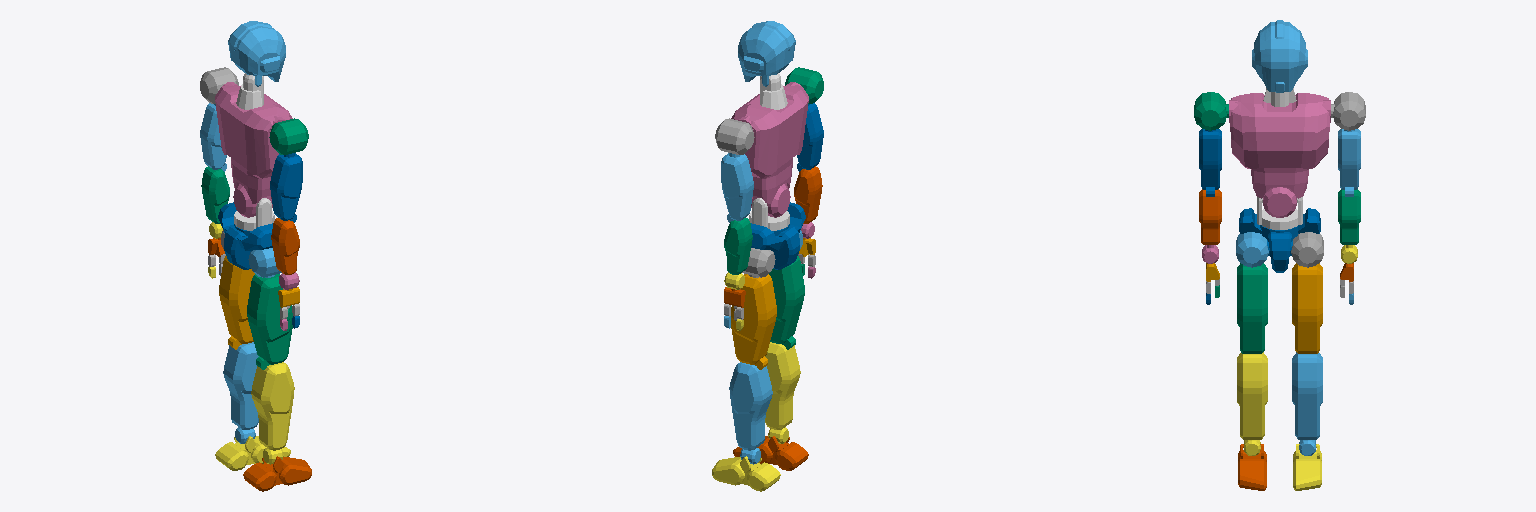
--- Render facts (derived) ---
Views: 3 orthographic renders of the robot side by side, from view 1: azimuth 30°, elevation 25°; view 2: azimuth 150°, elevation 25°; view 3: azimuth 270°, elevation 25°.
Model JVRC-1 with 55 links and 54 joints (44 revolute, 10 fixed), rooted at PELVIS_S, posed every joint at zero.
Links seen in each view (by area): view 1: WAIST_R_S, R_KNEE_S, R_HIP_Y_S, NECK_P_S, L_KNEE_S, L_HIP_Y_S, R_SHOULDER_Y_S, PELVIS_S, R_ANKLE_P_S, R_ELBOW_P_S, L_ANKLE_P_S, L_SHOULDER_Y_S (+6 smaller); view 2: WAIST_R_S, L_KNEE_S, L_HIP_Y_S, NECK_P_S, R_KNEE_S, R_HIP_Y_S, L_SHOULDER_Y_S, PELVIS_S, L_ANKLE_P_S, L_ELBOW_P_S, R_ANKLE_P_S, R_SHOULDER_Y_S (+6 smaller); view 3: WAIST_R_S, NECK_P_S, R_KNEE_S, L_KNEE_S, R_HIP_Y_S, L_HIP_Y_S, PELVIS_S, R_SHOULDER_Y_S, L_SHOULDER_Y_S, R_ELBOW_P_S, L_ELBOW_P_S, R_ANKLE_P_S (+6 smaller).
Link boxes in pixels (x1,y1,x2,y2): WAIST_R_S: (215, 82, 292, 217); R_KNEE_S: (251, 362, 294, 464); R_HIP_Y_S: (247, 274, 292, 369); NECK_P_S: (228, 21, 285, 86); L_KNEE_S: (223, 342, 258, 443); L_HIP_Y_S: (219, 256, 254, 349); R_SHOULDER_Y_S: (270, 153, 302, 222); PELVIS_S: (218, 202, 272, 269); R_ANKLE_P_S: (243, 456, 311, 491); R_ELBOW_P_S: (271, 218, 299, 274); L_ANKLE_P_S: (215, 436, 290, 470); L_SHOULDER_Y_S: (200, 103, 226, 171); WAIST_R_S: (731, 82, 808, 217); L_KNEE_S: (729, 362, 772, 464); L_HIP_Y_S: (731, 274, 776, 369); NECK_P_S: (738, 21, 795, 86); R_KNEE_S: (765, 342, 800, 443); R_HIP_Y_S: (769, 256, 804, 349); L_SHOULDER_Y_S: (721, 153, 753, 222); PELVIS_S: (751, 202, 805, 269); L_ANKLE_P_S: (712, 456, 780, 491); L_ELBOW_P_S: (724, 218, 752, 274); R_ANKLE_P_S: (733, 436, 808, 470); R_SHOULDER_Y_S: (797, 103, 823, 171); WAIST_R_S: (1229, 93, 1330, 217); NECK_P_S: (1252, 20, 1307, 92); R_KNEE_S: (1237, 352, 1267, 455); L_KNEE_S: (1292, 352, 1322, 455); R_HIP_Y_S: (1237, 263, 1267, 353); L_HIP_Y_S: (1292, 263, 1322, 353); PELVIS_S: (1239, 208, 1320, 272); R_SHOULDER_Y_S: (1199, 129, 1221, 196); L_SHOULDER_Y_S: (1338, 129, 1360, 196); R_ELBOW_P_S: (1199, 189, 1221, 244); L_ELBOW_P_S: (1338, 189, 1360, 244); R_ANKLE_P_S: (1238, 444, 1266, 490).
Size in the robot's own frame: 0.2846 by 0.595 by 1.71 metres.
39 mesh visuals loaded from 39 distinct referenced files (39 Collada DAE).

robot.urdf — JVRC-1:
<robot name="JVRC-1">
  <link name="R_HIP_P_S">
    <inertial>
      <mass value="1.0" />
      <origin xyz="0.0 0.0 0.0" rpy="0 -0 0" />
      <inertia ixx="0.00196" ixy="0.0" ixz="0.0" iyy="0.00196" iyz="0.0" izz="0.00196" />
    </inertial>
  </link>
  <link name="R_HIP_R_S">
    <inertial>
      <mass value="1.0" />
      <origin xyz="0.0 0.0 0.0" rpy="0 -0 0" />
      <inertia ixx="0.00196" ixy="0.0" ixz="0.0" iyy="0.00196" iyz="0.0" izz="0.00196" />
    </inertial>
    <visual>
      <origin xyz="0.0 0.0 0.0" rpy="-0.0 -0.0 1.5708" />
      <geometry>
        <mesh filename="package://jvrc_rviz/meshes/JVRC-1/JVRC-1-shape-4.dae" scale="0.01 0.01 0.01" />
      </geometry>
    </visual>
    <collision>
      <origin xyz="0.0 0.0 0.0" rpy="-0.0 -0.0 1.5708" />
      <geometry>
        <mesh filename="package://jvrc_rviz/meshes/JVRC-1/JVRC-1-shape-4.dae" scale="0.01 0.01 0.01" />
      </geometry>
    </collision>
  </link>
  <link name="R_HIP_Y_S">
    <inertial>
      <mass value="3.0" />
      <origin xyz="0.01 0.0 -0.22" rpy="0 -0 0" />
      <inertia ixx="0.031925" ixy="0.0" ixz="0.0" iyy="0.034525" iyz="0.0" izz="0.00865" />
    </inertial>
    <visual>
      <origin xyz="0.0 0.0 0.0" rpy="-0.0 -0.0 1.5708" />
      <geometry>
        <mesh filename="package://jvrc_rviz/meshes/JVRC-1/JVRC-1-shape-3.dae" scale="0.01 0.01 0.01" />
      </geometry>
    </visual>
    <collision>
      <origin xyz="0.0 0.0 0.0" rpy="-0.0 -0.0 1.5708" />
      <geometry>
        <mesh filename="package://jvrc_rviz/meshes/JVRC-1/JVRC-1-shape-3.dae" scale="0.01 0.01 0.01" />
      </geometry>
    </collision>
  </link>
  <link name="R_KNEE_S">
    <inertial>
      <mass value="3.0" />
      <origin xyz="0.04 0.0 -0.16" rpy="0 -0 0" />
      <inertia ixx="0.031925" ixy="0.0" ixz="0.0" iyy="0.034525" iyz="0.0" izz="0.00865" />
    </inertial>
    <visual>
      <origin xyz="0.0 0.0 0.0" rpy="-0.0 -0.0 1.5708" />
      <geometry>
        <mesh filename="package://jvrc_rviz/meshes/JVRC-1/JVRC-1-shape-1.dae" scale="0.01 0.01 0.01" />
      </geometry>
    </visual>
    <collision>
      <origin xyz="0.0 0.0 0.0" rpy="-0.0 -0.0 1.5708" />
      <geometry>
        <mesh filename="package://jvrc_rviz/meshes/JVRC-1/JVRC-1-shape-1.dae" scale="0.01 0.01 0.01" />
      </geometry>
    </collision>
    <visual>
      <origin xyz="0.04 0.0 -0.357" rpy="-0.0 -0.0 1.5708" />
      <geometry>
        <mesh filename="package://jvrc_rviz/meshes/JVRC-1/JVRC-1-shape-2.dae" scale="0.01 0.01 0.01" />
      </geometry>
    </visual>
    <collision>
      <origin xyz="0.04 0.0 -0.357" rpy="-0.0 -0.0 1.5708" />
      <geometry>
        <mesh filename="package://jvrc_rviz/meshes/JVRC-1/JVRC-1-shape-2.dae" scale="0.01 0.01 0.01" />
      </geometry>
    </collision>
  </link>
  <link name="R_ANKLE_R_S">
    <inertial>
      <mass value="1.0" />
      <origin xyz="0.0 0.0 0.0" rpy="0 -0 0" />
      <inertia ixx="0.00064" ixy="0.0" ixz="0.0" iyy="0.00064" iyz="0.0" izz="0.00064" />
    </inertial>
  </link>
  <link name="R_ANKLE_P_S">
    <inertial>
      <mass value="1.5" />
      <origin xyz="0.03 0.0 -0.07" rpy="0 -0 0" />
      <inertia ixx="0.00141666666667" ixy="0.0" ixz="0.0" iyy="0.00561666666667" iyz="0.0" izz="0.00621666666667" />
    </inertial>
    <visual>
      <origin xyz="0.0 0.0 0.0" rpy="-0.0 -0.0 1.5708" />
      <geometry>
        <mesh filename="package://jvrc_rviz/meshes/JVRC-1/JVRC-1-shape-0.dae" scale="0.01 0.01 0.01" />
      </geometry>
    </visual>
    <collision>
      <origin xyz="0.0 0.0 0.0" rpy="-0.0 -0.0 1.5708" />
      <geometry>
        <mesh filename="package://jvrc_rviz/meshes/JVRC-1/JVRC-1-shape-0.dae" scale="0.01 0.01 0.01" />
      </geometry>
    </collision>
  </link>
  <link name="L_HIP_P_S">
    <inertial>
      <mass value="1.0" />
      <origin xyz="0.0 0.0 0.0" rpy="0 -0 0" />
      <inertia ixx="0.00196" ixy="0.0" ixz="0.0" iyy="0.00196" iyz="0.0" izz="0.00196" />
    </inertial>
  </link>
  <link name="L_HIP_R_S">
    <inertial>
      <mass value="1.0" />
      <origin xyz="0.0 0.0 0.0" rpy="0 -0 0" />
      <inertia ixx="0.00196" ixy="0.0" ixz="0.0" iyy="0.00196" iyz="0.0" izz="0.00196" />
    </inertial>
    <visual>
      <origin xyz="0.0 0.0 0.0" rpy="-0.0 -0.0 1.5708" />
      <geometry>
        <mesh filename="package://jvrc_rviz/meshes/JVRC-1/JVRC-1-shape-9.dae" scale="0.01 0.01 0.01" />
      </geometry>
    </visual>
    <collision>
      <origin xyz="0.0 0.0 0.0" rpy="-0.0 -0.0 1.5708" />
      <geometry>
        <mesh filename="package://jvrc_rviz/meshes/JVRC-1/JVRC-1-shape-9.dae" scale="0.01 0.01 0.01" />
      </geometry>
    </collision>
  </link>
  <link name="L_HIP_Y_S">
    <inertial>
      <mass value="3.0" />
      <origin xyz="0.01 0.0 -0.22" rpy="0 -0 0" />
      <inertia ixx="0.031925" ixy="0.0" ixz="0.0" iyy="0.034525" iyz="0.0" izz="0.00865" />
    </inertial>
    <visual>
      <origin xyz="0.0 0.0 0.0" rpy="-0.0 -0.0 1.5708" />
      <geometry>
        <mesh filename="package://jvrc_rviz/meshes/JVRC-1/JVRC-1-shape-8.dae" scale="0.01 0.01 0.01" />
      </geometry>
    </visual>
    <collision>
      <origin xyz="0.0 0.0 0.0" rpy="-0.0 -0.0 1.5708" />
      <geometry>
        <mesh filename="package://jvrc_rviz/meshes/JVRC-1/JVRC-1-shape-8.dae" scale="0.01 0.01 0.01" />
      </geometry>
    </collision>
  </link>
  <link name="L_KNEE_S">
    <inertial>
      <mass value="3.0" />
      <origin xyz="0.04 0.0 -0.16" rpy="0 -0 0" />
      <inertia ixx="0.031925" ixy="0.0" ixz="0.0" iyy="0.034525" iyz="0.0" izz="0.00865" />
    </inertial>
    <visual>
      <origin xyz="0.0 0.0 0.0" rpy="-0.0 -0.0 1.5708" />
      <geometry>
        <mesh filename="package://jvrc_rviz/meshes/JVRC-1/JVRC-1-shape-6.dae" scale="0.01 0.01 0.01" />
      </geometry>
    </visual>
    <collision>
      <origin xyz="0.0 0.0 0.0" rpy="-0.0 -0.0 1.5708" />
      <geometry>
        <mesh filename="package://jvrc_rviz/meshes/JVRC-1/JVRC-1-shape-6.dae" scale="0.01 0.01 0.01" />
      </geometry>
    </collision>
    <visual>
      <origin xyz="0.04 0.0 -0.357" rpy="-0.0 -0.0 1.5708" />
      <geometry>
        <mesh filename="package://jvrc_rviz/meshes/JVRC-1/JVRC-1-shape-7.dae" scale="0.01 0.01 0.01" />
      </geometry>
    </visual>
    <collision>
      <origin xyz="0.04 0.0 -0.357" rpy="-0.0 -0.0 1.5708" />
      <geometry>
        <mesh filename="package://jvrc_rviz/meshes/JVRC-1/JVRC-1-shape-7.dae" scale="0.01 0.01 0.01" />
      </geometry>
    </collision>
  </link>
  <link name="L_ANKLE_R_S">
    <inertial>
      <mass value="1.0" />
      <origin xyz="0.0 0.0 0.0" rpy="0 -0 0" />
      <inertia ixx="0.00064" ixy="0.0" ixz="0.0" iyy="0.00064" iyz="0.0" izz="0.00064" />
    </inertial>
  </link>
  <link name="L_ANKLE_P_S">
    <inertial>
      <mass value="1.5" />
      <origin xyz="0.03 0.0 -0.07" rpy="0 -0 0" />
      <inertia ixx="0.00141666666667" ixy="0.0" ixz="0.0" iyy="0.00561666666667" iyz="0.0" izz="0.00621666666667" />
    </inertial>
    <visual>
      <origin xyz="0.0 0.0 0.0" rpy="-0.0 -0.0 1.5708" />
      <geometry>
        <mesh filename="package://jvrc_rviz/meshes/JVRC-1/JVRC-1-shape-5.dae" scale="0.01 0.01 0.01" />
      </geometry>
    </visual>
    <collision>
      <origin xyz="0.0 0.0 0.0" rpy="-0.0 -0.0 1.5708" />
      <geometry>
        <mesh filename="package://jvrc_rviz/meshes/JVRC-1/JVRC-1-shape-5.dae" scale="0.01 0.01 0.01" />
      </geometry>
    </collision>
  </link>
  <link name="WAIST_Y_S">
    <inertial>
      <mass value="1.0" />
      <origin xyz="0.0 0.0 -0.07" rpy="0 -0 0" />
      <inertia ixx="0.00173333333333" ixy="0.0" ixz="0.0" iyy="0.00173333333333" iyz="0.0" izz="0.0032" />
    </inertial>
    <visual>
      <origin xyz="0.0 0.0 0.0" rpy="-0.0 -0.0 1.5708" />
      <geometry>
        <mesh filename="package://jvrc_rviz/meshes/JVRC-1/JVRC-1-shape-37.dae" scale="0.01 0.01 0.01" />
      </geometry>
    </visual>
    <collision>
      <origin xyz="0.0 0.0 0.0" rpy="-0.0 -0.0 1.5708" />
      <geometry>
        <mesh filename="package://jvrc_rviz/meshes/JVRC-1/JVRC-1-shape-37.dae" scale="0.01 0.01 0.01" />
      </geometry>
    </collision>
  </link>
  <link name="WAIST_P_S">
    <inertial>
      <mass value="1.0" />
      <origin xyz="0.0 0.0 0.0" rpy="0 -0 0" />
      <inertia ixx="0.00245" ixy="0.0" ixz="0.0" iyy="0.002425" iyz="0.0" izz="0.002425" />
    </inertial>
  </link>
  <link name="WAIST_R_S">
    <inertial>
      <mass value="10.0" />
      <origin xyz="0.02 0.0 0.24" rpy="0 -0 0" />
      <inertia ixx="0.157083333333" ixy="0.0" ixz="0.0" iyy="0.101083333333" iyz="0.0" izz="0.136666666667" />
    </inertial>
    <visual>
      <origin xyz="0.0 0.0 0.0" rpy="-0.0 -0.0 1.5708" />
      <geometry>
        <mesh filename="package://jvrc_rviz/meshes/JVRC-1/JVRC-1-shape-35.dae" scale="0.01 0.01 0.01" />
      </geometry>
    </visual>
    <collision>
      <origin xyz="0.0 0.0 0.0" rpy="-0.0 -0.0 1.5708" />
      <geometry>
        <mesh filename="package://jvrc_rviz/meshes/JVRC-1/JVRC-1-shape-35.dae" scale="0.01 0.01 0.01" />
      </geometry>
    </collision>
    <visual>
      <origin xyz="0.0 0.0 0.0" rpy="-0.0 -0.0 1.5708" />
      <geometry>
        <mesh filename="package://jvrc_rviz/meshes/JVRC-1/JVRC-1-shape-36.dae" scale="0.01 0.01 0.01" />
      </geometry>
    </visual>
    <collision>
      <origin xyz="0.0 0.0 0.0" rpy="-0.0 -0.0 1.5708" />
      <geometry>
        <mesh filename="package://jvrc_rviz/meshes/JVRC-1/JVRC-1-shape-36.dae" scale="0.01 0.01 0.01" />
      </geometry>
    </collision>
  </link>
  <link name="NECK_Y_S">
    <inertial>
      <mass value="0.5" />
      <origin xyz="0.0 0.0 -0.05" rpy="0 -0 0" />
      <inertia ixx="0.000729166666667" ixy="0.0" ixz="0.0" iyy="0.000729166666667" iyz="0.0" izz="0.000625" />
    </inertial>
    <visual>
      <origin xyz="0.0 0.0 0.0" rpy="-0.0 -0.0 1.5708" />
      <geometry>
        <mesh filename="package://jvrc_rviz/meshes/JVRC-1/JVRC-1-shape-12.dae" scale="0.01 0.01 0.01" />
      </geometry>
    </visual>
    <collision>
      <origin xyz="0.0 0.0 0.0" rpy="-0.0 -0.0 1.5708" />
      <geometry>
        <mesh filename="package://jvrc_rviz/meshes/JVRC-1/JVRC-1-shape-12.dae" scale="0.01 0.01 0.01" />
      </geometry>
    </collision>
  </link>
  <link name="NECK_R_S">
    <inertial>
      <mass value="0.5" />
      <origin xyz="0.0 0.0 0.0" rpy="0 -0 0" />
      <inertia ixx="0.0005" ixy="0.0" ixz="0.0" iyy="0.0005" iyz="0.0" izz="0.0005" />
    </inertial>
  </link>
  <link name="NECK_P_S">
    <inertial>
      <mass value="2.0" />
      <origin xyz="0.01 0.0 0.11" rpy="0 -0 0" />
      <inertia ixx="0.00968" ixy="0.0" ixz="0.0" iyy="0.00968" iyz="0.0" izz="0.00968" />
    </inertial>
    <visual>
      <origin xyz="0.0 0.0 0.0" rpy="-0.0 -0.0 1.5708" />
      <geometry>
        <mesh filename="package://jvrc_rviz/meshes/JVRC-1/JVRC-1-shape-10.dae" scale="0.01 0.01 0.01" />
      </geometry>
    </visual>
    <collision>
      <origin xyz="0.0 0.0 0.0" rpy="-0.0 -0.0 1.5708" />
      <geometry>
        <mesh filename="package://jvrc_rviz/meshes/JVRC-1/JVRC-1-shape-10.dae" scale="0.01 0.01 0.01" />
      </geometry>
    </collision>
    <visual>
      <origin xyz="0.0 0.0 0.0" rpy="-0.0 -0.0 1.5708" />
      <geometry>
        <mesh filename="package://jvrc_rviz/meshes/JVRC-1/JVRC-1-shape-11.dae" scale="0.01 0.01 0.01" />
      </geometry>
    </visual>
    <collision>
      <origin xyz="0.0 0.0 0.0" rpy="-0.0 -0.0 1.5708" />
      <geometry>
        <mesh filename="package://jvrc_rviz/meshes/JVRC-1/JVRC-1-shape-11.dae" scale="0.01 0.01 0.01" />
      </geometry>
    </collision>
  </link>
  <link name="R_SHOULDER_P_S">
    <inertial>
      <mass value="1.0" />
      <origin xyz="0.0 0.0 0.0" rpy="0 -0 0" />
      <inertia ixx="0.00196" ixy="0.0" ixz="0.0" iyy="0.00196" iyz="0.0" izz="0.00196" />
    </inertial>
    <visual>
      <origin xyz="0.0 0.0 0.0" rpy="-0.0 -0.0 1.5708" />
      <geometry>
        <mesh filename="package://jvrc_rviz/meshes/JVRC-1/JVRC-1-shape-23.dae" scale="0.01 0.01 0.01" />
      </geometry>
    </visual>
    <collision>
      <origin xyz="0.0 0.0 0.0" rpy="-0.0 -0.0 1.5708" />
      <geometry>
        <mesh filename="package://jvrc_rviz/meshes/JVRC-1/JVRC-1-shape-23.dae" scale="0.01 0.01 0.01" />
      </geometry>
    </collision>
  </link>
  <link name="R_SHOULDER_R_S">
    <inertial>
      <mass value="1.0" />
      <origin xyz="0.0 0.0 0.0" rpy="0 -0 0" />
      <inertia ixx="0.00196" ixy="0.0" ixz="0.0" iyy="0.00196" iyz="0.0" izz="0.00196" />
    </inertial>
  </link>
  <link name="R_SHOULDER_Y_S">
    <inertial>
      <mass value="2.0" />
      <origin xyz="-0.01 0.0 -0.19" rpy="0 -0 0" />
      <inertia ixx="0.01365" ixy="0.0" ixz="0.0" iyy="0.0146" iyz="0.0" izz="0.00635" />
    </inertial>
    <visual>
      <origin xyz="0.0 0.0 0.0" rpy="-0.0 -0.0 1.5708" />
      <geometry>
        <mesh filename="package://jvrc_rviz/meshes/JVRC-1/JVRC-1-shape-22.dae" scale="0.01 0.01 0.01" />
      </geometry>
    </visual>
    <collision>
      <origin xyz="0.0 0.0 0.0" rpy="-0.0 -0.0 1.5708" />
      <geometry>
        <mesh filename="package://jvrc_rviz/meshes/JVRC-1/JVRC-1-shape-22.dae" scale="0.01 0.01 0.01" />
      </geometry>
    </collision>
  </link>
  <link name="R_ELBOW_P_S">
    <inertial>
      <mass value="1.0" />
      <origin xyz="-0.02 0.0 -0.1" rpy="0 -0 0" />
      <inertia ixx="0.010675" ixy="0.0" ixz="0.0" iyy="0.010675" iyz="0.0" izz="0.0027" />
    </inertial>
    <visual>
      <origin xyz="0.0 0.0 0.0" rpy="-0.0 -0.0 1.5708" />
      <geometry>
        <mesh filename="package://jvrc_rviz/meshes/JVRC-1/JVRC-1-shape-21.dae" scale="0.01 0.01 0.01" />
      </geometry>
    </visual>
    <collision>
      <origin xyz="0.0 0.0 0.0" rpy="-0.0 -0.0 1.5708" />
      <geometry>
        <mesh filename="package://jvrc_rviz/meshes/JVRC-1/JVRC-1-shape-21.dae" scale="0.01 0.01 0.01" />
      </geometry>
    </collision>
  </link>
  <link name="R_ELBOW_Y_S">
    <inertial>
      <mass value="1.0" />
      <origin xyz="0.0 0.0 0.0" rpy="0 -0 0" />
      <inertia ixx="0.00064" ixy="0.0" ixz="0.0" iyy="0.00064" iyz="0.0" izz="0.00064" />
    </inertial>
    <visual>
      <origin xyz="0.0 0.0 0.0" rpy="-0.0 -0.0 1.5708" />
      <geometry>
        <mesh filename="package://jvrc_rviz/meshes/JVRC-1/JVRC-1-shape-20.dae" scale="0.01 0.01 0.01" />
      </geometry>
    </visual>
    <collision>
      <origin xyz="0.0 0.0 0.0" rpy="-0.0 -0.0 1.5708" />
      <geometry>
        <mesh filename="package://jvrc_rviz/meshes/JVRC-1/JVRC-1-shape-20.dae" scale="0.01 0.01 0.01" />
      </geometry>
    </collision>
  </link>
  <link name="R_WRIST_R_S">
    <inertial>
      <mass value="0.5" />
      <origin xyz="0.0 0.0 0.0" rpy="0 -0 0" />
      <inertia ixx="0.00032" ixy="0.0" ixz="0.0" iyy="0.00032" iyz="0.0" izz="0.00032" />
    </inertial>
  </link>
  <link name="R_WRIST_Y_S">
    <inertial>
      <mass value="0.5" />
      <origin xyz="0.0 0.01 -0.06" rpy="0 -0 0" />
      <inertia ixx="0.0004625" ixy="0.0" ixz="0.0" iyy="0.0007625" iyz="0.0" izz="0.0004625" />
    </inertial>
    <visual>
      <origin xyz="0.0 0.0 0.0" rpy="-0.0 -0.0 1.5708" />
      <geometry>
        <mesh filename="package://jvrc_rviz/meshes/JVRC-1/JVRC-1-shape-19.dae" scale="0.01 0.01 0.01" />
      </geometry>
    </visual>
    <collision>
      <origin xyz="0.0 0.0 0.0" rpy="-0.0 -0.0 1.5708" />
      <geometry>
        <mesh filename="package://jvrc_rviz/meshes/JVRC-1/JVRC-1-shape-19.dae" scale="0.01 0.01 0.01" />
      </geometry>
    </collision>
  </link>
  <link name="R_UTHUMB_S">
    <inertial>
      <mass value="0.2" />
      <origin xyz="0.0 0.0 -0.015" rpy="0 -0 0" />
      <inertia ixx="6.16666666667e-05" ixy="0.0" ixz="0.0" iyy="6.16666666667e-05" iyz="0.0" izz="2.66666666667e-05" />
    </inertial>
    <visual>
      <origin xyz="0.0 0.0 0.0" rpy="-0.0 -0.0 1.5708" />
      <geometry>
        <mesh filename="package://jvrc_rviz/meshes/JVRC-1/JVRC-1-shape-14.dae" scale="0.01 0.01 0.01" />
      </geometry>
    </visual>
    <collision>
      <origin xyz="0.0 0.0 0.0" rpy="-0.0 -0.0 1.5708" />
      <geometry>
        <mesh filename="package://jvrc_rviz/meshes/JVRC-1/JVRC-1-shape-14.dae" scale="0.01 0.01 0.01" />
      </geometry>
    </collision>
  </link>
  <link name="R_LTHUMB_S">
    <inertial>
      <mass value="0.2" />
      <origin xyz="0.0 0.0 -0.015" rpy="0 -0 0" />
      <inertia ixx="6.16666666667e-05" ixy="0.0" ixz="0.0" iyy="6.16666666667e-05" iyz="0.0" izz="2.66666666667e-05" />
    </inertial>
    <visual>
      <origin xyz="0.0 0.0 0.0" rpy="-0.0 -0.0 1.5708" />
      <geometry>
        <mesh filename="package://jvrc_rviz/meshes/JVRC-1/JVRC-1-shape-13.dae" scale="0.01 0.01 0.01" />
      </geometry>
    </visual>
    <collision>
      <origin xyz="0.0 0.0 0.0" rpy="-0.0 -0.0 1.5708" />
      <geometry>
        <mesh filename="package://jvrc_rviz/meshes/JVRC-1/JVRC-1-shape-13.dae" scale="0.01 0.01 0.01" />
      </geometry>
    </collision>
  </link>
  <link name="R_UINDEX_S">
    <inertial>
      <mass value="0.2" />
      <origin xyz="0.0 0.0 -0.015" rpy="0 -0 0" />
      <inertia ixx="6.16666666667e-05" ixy="0.0" ixz="0.0" iyy="6.16666666667e-05" iyz="0.0" izz="2.66666666667e-05" />
    </inertial>
    <visual>
      <origin xyz="0.0 0.0 0.0" rpy="-0.0 -0.0 1.5708" />
      <geometry>
        <mesh filename="package://jvrc_rviz/meshes/JVRC-1/JVRC-1-shape-16.dae" scale="0.01 0.01 0.01" />
      </geometry>
    </visual>
    <collision>
      <origin xyz="0.0 0.0 0.0" rpy="-0.0 -0.0 1.5708" />
      <geometry>
        <mesh filename="package://jvrc_rviz/meshes/JVRC-1/JVRC-1-shape-16.dae" scale="0.01 0.01 0.01" />
      </geometry>
    </collision>
  </link>
  <link name="R_LINDEX_S">
    <inertial>
      <mass value="0.2" />
      <origin xyz="0.0 0.0 -0.015" rpy="0 -0 0" />
      <inertia ixx="6.16666666667e-05" ixy="0.0" ixz="0.0" iyy="6.16666666667e-05" iyz="0.0" izz="2.66666666667e-05" />
    </inertial>
    <visual>
      <origin xyz="0.0 0.0 0.0" rpy="-0.0 -0.0 1.5708" />
      <geometry>
        <mesh filename="package://jvrc_rviz/meshes/JVRC-1/JVRC-1-shape-15.dae" scale="0.01 0.01 0.01" />
      </geometry>
    </visual>
    <collision>
      <origin xyz="0.0 0.0 0.0" rpy="-0.0 -0.0 1.5708" />
      <geometry>
        <mesh filename="package://jvrc_rviz/meshes/JVRC-1/JVRC-1-shape-15.dae" scale="0.01 0.01 0.01" />
      </geometry>
    </collision>
  </link>
  <link name="R_ULITTLE_S">
    <inertial>
      <mass value="0.2" />
      <origin xyz="0.0 0.0 -0.015" rpy="0 -0 0" />
      <inertia ixx="6.16666666667e-05" ixy="0.0" ixz="0.0" iyy="6.16666666667e-05" iyz="0.0" izz="2.66666666667e-05" />
    </inertial>
    <visual>
      <origin xyz="0.0 0.0 0.0" rpy="-0.0 -0.0 1.5708" />
      <geometry>
        <mesh filename="package://jvrc_rviz/meshes/JVRC-1/JVRC-1-shape-18.dae" scale="0.01 0.01 0.01" />
      </geometry>
    </visual>
    <collision>
      <origin xyz="0.0 0.0 0.0" rpy="-0.0 -0.0 1.5708" />
      <geometry>
        <mesh filename="package://jvrc_rviz/meshes/JVRC-1/JVRC-1-shape-18.dae" scale="0.01 0.01 0.01" />
      </geometry>
    </collision>
  </link>
  <link name="R_LLITTLE_S">
    <inertial>
      <mass value="0.2" />
      <origin xyz="0.0 0.0 -0.015" rpy="0 -0 0" />
      <inertia ixx="6.16666666667e-05" ixy="0.0" ixz="0.0" iyy="6.16666666667e-05" iyz="0.0" izz="2.66666666667e-05" />
    </inertial>
    <visual>
      <origin xyz="0.0 0.0 0.0" rpy="-0.0 -0.0 1.5708" />
      <geometry>
        <mesh filename="package://jvrc_rviz/meshes/JVRC-1/JVRC-1-shape-17.dae" scale="0.01 0.01 0.01" />
      </geometry>
    </visual>
    <collision>
      <origin xyz="0.0 0.0 0.0" rpy="-0.0 -0.0 1.5708" />
      <geometry>
        <mesh filename="package://jvrc_rviz/meshes/JVRC-1/JVRC-1-shape-17.dae" scale="0.01 0.01 0.01" />
      </geometry>
    </collision>
  </link>
  <link name="L_SHOULDER_P_S">
    <inertial>
      <mass value="1.0" />
      <origin xyz="0.0 0.0 0.0" rpy="0 -0 0" />
      <inertia ixx="0.00196" ixy="0.0" ixz="0.0" iyy="0.00196" iyz="0.0" izz="0.00196" />
    </inertial>
    <visual>
      <origin xyz="0.0 0.0 0.0" rpy="-0.0 -0.0 1.5708" />
      <geometry>
        <mesh filename="package://jvrc_rviz/meshes/JVRC-1/JVRC-1-shape-34.dae" scale="0.01 0.01 0.01" />
      </geometry>
    </visual>
    <collision>
      <origin xyz="0.0 0.0 0.0" rpy="-0.0 -0.0 1.5708" />
      <geometry>
        <mesh filename="package://jvrc_rviz/meshes/JVRC-1/JVRC-1-shape-34.dae" scale="0.01 0.01 0.01" />
      </geometry>
    </collision>
  </link>
  <link name="L_SHOULDER_R_S">
    <inertial>
      <mass value="1.0" />
      <origin xyz="0.0 0.0 0.0" rpy="0 -0 0" />
      <inertia ixx="0.00196" ixy="0.0" ixz="0.0" iyy="0.00196" iyz="0.0" izz="0.00196" />
    </inertial>
  </link>
  <link name="L_SHOULDER_Y_S">
    <inertial>
      <mass value="2.0" />
      <origin xyz="-0.01 0.0 -0.19" rpy="0 -0 0" />
      <inertia ixx="0.01365" ixy="0.0" ixz="0.0" iyy="0.0146" iyz="0.0" izz="0.00635" />
    </inertial>
    <visual>
      <origin xyz="0.0 0.0 0.0" rpy="-0.0 -0.0 1.5708" />
      <geometry>
        <mesh filename="package://jvrc_rviz/meshes/JVRC-1/JVRC-1-shape-33.dae" scale="0.01 0.01 0.01" />
      </geometry>
    </visual>
    <collision>
      <origin xyz="0.0 0.0 0.0" rpy="-0.0 -0.0 1.5708" />
      <geometry>
        <mesh filename="package://jvrc_rviz/meshes/JVRC-1/JVRC-1-shape-33.dae" scale="0.01 0.01 0.01" />
      </geometry>
    </collision>
  </link>
  <link name="L_ELBOW_P_S">
    <inertial>
      <mass value="1.0" />
      <origin xyz="-0.02 0.0 -0.1" rpy="0 -0 0" />
      <inertia ixx="0.010675" ixy="0.0" ixz="0.0" iyy="0.010675" iyz="0.0" izz="0.0027" />
    </inertial>
    <visual>
      <origin xyz="0.0 0.0 0.0" rpy="-0.0 -0.0 1.5708" />
      <geometry>
        <mesh filename="package://jvrc_rviz/meshes/JVRC-1/JVRC-1-shape-32.dae" scale="0.01 0.01 0.01" />
      </geometry>
    </visual>
    <collision>
      <origin xyz="0.0 0.0 0.0" rpy="-0.0 -0.0 1.5708" />
      <geometry>
        <mesh filename="package://jvrc_rviz/meshes/JVRC-1/JVRC-1-shape-32.dae" scale="0.01 0.01 0.01" />
      </geometry>
    </collision>
  </link>
  <link name="L_ELBOW_Y_S">
    <inertial>
      <mass value="1.0" />
      <origin xyz="0.0 0.0 0.0" rpy="0 -0 0" />
      <inertia ixx="0.00064" ixy="0.0" ixz="0.0" iyy="0.00064" iyz="0.0" izz="0.00064" />
    </inertial>
    <visual>
      <origin xyz="0.0 0.0 0.0" rpy="-0.0 -0.0 1.5708" />
      <geometry>
        <mesh filename="package://jvrc_rviz/meshes/JVRC-1/JVRC-1-shape-31.dae" scale="0.01 0.01 0.01" />
      </geometry>
    </visual>
    <collision>
      <origin xyz="0.0 0.0 0.0" rpy="-0.0 -0.0 1.5708" />
      <geometry>
        <mesh filename="package://jvrc_rviz/meshes/JVRC-1/JVRC-1-shape-31.dae" scale="0.01 0.01 0.01" />
      </geometry>
    </collision>
  </link>
  <link name="L_WRIST_R_S">
    <inertial>
      <mass value="0.5" />
      <origin xyz="0.0 0.0 0.0" rpy="0 -0 0" />
      <inertia ixx="0.00032" ixy="0.0" ixz="0.0" iyy="0.00032" iyz="0.0" izz="0.00032" />
    </inertial>
  </link>
  <link name="L_WRIST_Y_S">
    <inertial>
      <mass value="0.5" />
      <origin xyz="0.0 -0.01 -0.06" rpy="0 -0 0" />
      <inertia ixx="0.0004625" ixy="0.0" ixz="0.0" iyy="0.0007625" iyz="0.0" izz="0.0004625" />
    </inertial>
    <visual>
      <origin xyz="0.0 0.0 0.0" rpy="-0.0 -0.0 1.5708" />
      <geometry>
        <mesh filename="package://jvrc_rviz/meshes/JVRC-1/JVRC-1-shape-30.dae" scale="0.01 0.01 0.01" />
      </geometry>
    </visual>
    <collision>
      <origin xyz="0.0 0.0 0.0" rpy="-0.0 -0.0 1.5708" />
      <geometry>
        <mesh filename="package://jvrc_rviz/meshes/JVRC-1/JVRC-1-shape-30.dae" scale="0.01 0.01 0.01" />
      </geometry>
    </collision>
  </link>
  <link name="L_UTHUMB_S">
    <inertial>
      <mass value="0.2" />
      <origin xyz="0.0 0.0 -0.015" rpy="0 -0 0" />
      <inertia ixx="6.16666666667e-05" ixy="0.0" ixz="0.0" iyy="6.16666666667e-05" iyz="0.0" izz="2.66666666667e-05" />
    </inertial>
    <visual>
      <origin xyz="0.0 0.0 0.0" rpy="-0.0 -0.0 1.5708" />
      <geometry>
        <mesh filename="package://jvrc_rviz/meshes/JVRC-1/JVRC-1-shape-25.dae" scale="0.01 0.01 0.01" />
      </geometry>
    </visual>
    <collision>
      <origin xyz="0.0 0.0 0.0" rpy="-0.0 -0.0 1.5708" />
      <geometry>
        <mesh filename="package://jvrc_rviz/meshes/JVRC-1/JVRC-1-shape-25.dae" scale="0.01 0.01 0.01" />
      </geometry>
    </collision>
  </link>
  <link name="L_LTHUMB_S">
    <inertial>
      <mass value="0.2" />
      <origin xyz="0.0 0.0 -0.015" rpy="0 -0 0" />
      <inertia ixx="6.16666666667e-05" ixy="0.0" ixz="0.0" iyy="6.16666666667e-05" iyz="0.0" izz="2.66666666667e-05" />
    </inertial>
    <visual>
      <origin xyz="0.0 0.0 0.0" rpy="-0.0 -0.0 1.5708" />
      <geometry>
        <mesh filename="package://jvrc_rviz/meshes/JVRC-1/JVRC-1-shape-24.dae" scale="0.01 0.01 0.01" />
      </geometry>
    </visual>
    <collision>
      <origin xyz="0.0 0.0 0.0" rpy="-0.0 -0.0 1.5708" />
      <geometry>
        <mesh filename="package://jvrc_rviz/meshes/JVRC-1/JVRC-1-shape-24.dae" scale="0.01 0.01 0.01" />
      </geometry>
    </collision>
  </link>
  <link name="L_UINDEX_S">
    <inertial>
      <mass value="0.2" />
      <origin xyz="0.0 0.0 -0.015" rpy="0 -0 0" />
      <inertia ixx="6.16666666667e-05" ixy="0.0" ixz="0.0" iyy="6.16666666667e-05" iyz="0.0" izz="2.66666666667e-05" />
    </inertial>
    <visual>
      <origin xyz="0.0 0.0 0.0" rpy="-0.0 -0.0 1.5708" />
      <geometry>
        <mesh filename="package://jvrc_rviz/meshes/JVRC-1/JVRC-1-shape-27.dae" scale="0.01 0.01 0.01" />
      </geometry>
    </visual>
    <collision>
      <origin xyz="0.0 0.0 0.0" rpy="-0.0 -0.0 1.5708" />
      <geometry>
        <mesh filename="package://jvrc_rviz/meshes/JVRC-1/JVRC-1-shape-27.dae" scale="0.01 0.01 0.01" />
      </geometry>
    </collision>
  </link>
  <link name="L_LINDEX_S">
    <inertial>
      <mass value="0.2" />
      <origin xyz="0.0 0.0 -0.015" rpy="0 -0 0" />
      <inertia ixx="6.16666666667e-05" ixy="0.0" ixz="0.0" iyy="6.16666666667e-05" iyz="0.0" izz="2.66666666667e-05" />
    </inertial>
    <visual>
      <origin xyz="0.0 0.0 0.0" rpy="-0.0 -0.0 1.5708" />
      <geometry>
        <mesh filename="package://jvrc_rviz/meshes/JVRC-1/JVRC-1-shape-26.dae" scale="0.01 0.01 0.01" />
      </geometry>
    </visual>
    <collision>
      <origin xyz="0.0 0.0 0.0" rpy="-0.0 -0.0 1.5708" />
      <geometry>
        <mesh filename="package://jvrc_rviz/meshes/JVRC-1/JVRC-1-shape-26.dae" scale="0.01 0.01 0.01" />
      </geometry>
    </collision>
  </link>
  <link name="L_ULITTLE_S">
    <inertial>
      <mass value="0.2" />
      <origin xyz="0.0 0.0 -0.015" rpy="0 -0 0" />
      <inertia ixx="6.16666666667e-05" ixy="0.0" ixz="0.0" iyy="6.16666666667e-05" iyz="0.0" izz="2.66666666667e-05" />
    </inertial>
    <visual>
      <origin xyz="0.0 0.0 0.0" rpy="-0.0 -0.0 1.5708" />
      <geometry>
        <mesh filename="package://jvrc_rviz/meshes/JVRC-1/JVRC-1-shape-29.dae" scale="0.01 0.01 0.01" />
      </geometry>
    </visual>
    <collision>
      <origin xyz="0.0 0.0 0.0" rpy="-0.0 -0.0 1.5708" />
      <geometry>
        <mesh filename="package://jvrc_rviz/meshes/JVRC-1/JVRC-1-shape-29.dae" scale="0.01 0.01 0.01" />
      </geometry>
    </collision>
  </link>
  <link name="L_LLITTLE_S">
    <inertial>
      <mass value="0.2" />
      <origin xyz="0.0 0.0 -0.015" rpy="0 -0 0" />
      <inertia ixx="6.16666666667e-05" ixy="0.0" ixz="0.0" iyy="6.16666666667e-05" iyz="0.0" izz="2.66666666667e-05" />
    </inertial>
    <visual>
      <origin xyz="0.0 0.0 0.0" rpy="-0.0 -0.0 1.5708" />
      <geometry>
        <mesh filename="package://jvrc_rviz/meshes/JVRC-1/JVRC-1-shape-28.dae" scale="0.01 0.01 0.01" />
      </geometry>
    </visual>
    <collision>
      <origin xyz="0.0 0.0 0.0" rpy="-0.0 -0.0 1.5708" />
      <geometry>
        <mesh filename="package://jvrc_rviz/meshes/JVRC-1/JVRC-1-shape-28.dae" scale="0.01 0.01 0.01" />
      </geometry>
    </collision>
  </link>
  <link name="PELVIS_S">
    <inertial>
      <mass value="10.0" />
      <origin xyz="-0.01 0.0 0.034" rpy="0 -0 0" />
      <inertia ixx="0.0895833333333" ixy="0.0" ixz="0.0" iyy="0.0895833333333" iyz="0.0" izz="0.1125" />
    </inertial>
    <visual>
      <origin xyz="0.0 0.0 0.0" rpy="-0.0 -0.0 1.5708" />
      <geometry>
        <mesh filename="package://jvrc_rviz/meshes/JVRC-1/JVRC-1-shape-38.dae" scale="0.01 0.01 0.01" />
      </geometry>
    </visual>
    <collision>
      <origin xyz="0.0 0.0 0.0" rpy="-0.0 -0.0 1.5708" />
      <geometry>
        <mesh filename="package://jvrc_rviz/meshes/JVRC-1/JVRC-1-shape-38.dae" scale="0.01 0.01 0.01" />
      </geometry>
    </collision>
  </link>
  <joint name="R_HIP_P" type="revolute">
    <origin xyz="0.0 -0.096 0.0" rpy="0.0 -0.0 0.0" />
    <axis xyz="0.0 1.0 0.0" />
    <parent link="PELVIS_S" />
    <child link="R_HIP_P_S" />
    <limit lower="-2.09439510239" upper="0.785398163397" effort="100" velocity="12.56636" />
  </joint>
  <joint name="R_HIP_R" type="revolute">
    <origin xyz="0.0 2.77555756156e-17 0.0" rpy="0.0 -0.0 0.0" />
    <axis xyz="1.0 0.0 0.0" />
    <parent link="R_HIP_P_S" />
    <child link="R_HIP_R_S" />
    <limit lower="-0.785398163397" upper="0.349065850399" effort="100" velocity="8.90117" />
  </joint>
  <joint name="R_HIP_Y" type="revolute">
    <origin xyz="0.0 2.77555756156e-17 0.0" rpy="0.0 -0.0 0.0" />
    <axis xyz="0.0 0.0 1.0" />
    <parent link="R_HIP_R_S" />
    <child link="R_HIP_Y_S" />
    <limit lower="-0.523598775598" upper="0.785398163397" effort="100" velocity="8.90117" />
  </joint>
  <joint name="R_KNEE" type="revolute">
    <origin xyz="-0.02 2.77555756156e-17 -0.389" rpy="0.0 -0.0 0.0" />
    <axis xyz="0.0 1.0 0.0" />
    <parent link="R_HIP_Y_S" />
    <child link="R_KNEE_S" />
    <limit lower="0.0" upper="2.61799387799" effort="100" velocity="14.66075" />
  </joint>
  <joint name="R_ANKLE_R" type="revolute">
    <origin xyz="0.04 1.11022302463e-16 -0.357" rpy="0.0 -0.0 0.0" />
    <axis xyz="1.0 0.0 0.0" />
    <parent link="R_KNEE_S" />
    <child link="R_ANKLE_R_S" />
    <limit lower="-0.610865238198" upper="0.785398163397" effort="100" velocity="15.18435" />
  </joint>
  <joint name="R_ANKLE_P" type="revolute">
    <origin xyz="-1.73472347598e-17 -4.4408920985e-16 -1.11022302463e-16" rpy="0.0 -0.0 0.0" />
    <axis xyz="0.0 1.0 0.0" />
    <parent link="R_ANKLE_R_S" />
    <child link="R_ANKLE_P_S" />
    <limit lower="-1.4835298642" upper="0.959931088597" effort="100" velocity="14.18435" />
  </joint>
  <joint name="L_HIP_P" type="revolute">
    <origin xyz="0.0 0.096 0.0" rpy="0.0 -0.0 0.0" />
    <axis xyz="0.0 1.0 0.0" />
    <parent link="PELVIS_S" />
    <child link="L_HIP_P_S" />
    <limit lower="-2.09439510239" upper="0.785398163397" effort="100" velocity="12.56636" />
  </joint>
  <joint name="L_HIP_R" type="revolute">
    <origin xyz="0.0 -2.77555756156e-17 0.0" rpy="0.0 -0.0 0.0" />
    <axis xyz="1.0 0.0 0.0" />
    <parent link="L_HIP_P_S" />
    <child link="L_HIP_R_S" />
    <limit lower="-0.349065850399" upper="0.785398163397" effort="100" velocity="8.90117" />
  </joint>
  <joint name="L_HIP_Y" type="revolute">
    <origin xyz="0.0 -2.77555756156e-17 0.0" rpy="0.0 -0.0 0.0" />
    <axis xyz="0.0 0.0 1.0" />
    <parent link="L_HIP_R_S" />
    <child link="L_HIP_Y_S" />
    <limit lower="-0.785398163397" upper="0.523598775598" effort="100" velocity="8.90117" />
  </joint>
  <joint name="L_KNEE" type="revolute">
    <origin xyz="-0.02 -2.77555756156e-17 -0.389" rpy="0.0 -0.0 0.0" />
    <axis xyz="0.0 1.0 0.0" />
    <parent link="L_HIP_Y_S" />
    <child link="L_KNEE_S" />
    <limit lower="0.0" upper="2.61799387799" effort="100" velocity="14.66075" />
  </joint>
  <joint name="L_ANKLE_R" type="revolute">
    <origin xyz="0.04 1.52655665886e-16 -0.357" rpy="0.0 -0.0 0.0" />
    <axis xyz="1.0 0.0 0.0" />
    <parent link="L_KNEE_S" />
    <child link="L_ANKLE_R_S" />
    <limit lower="-0.785398163397" upper="0.610865238198" effort="100" velocity="15.18435" />
  </joint>
  <joint name="L_ANKLE_P" type="revolute">
    <origin xyz="-4.85722573274e-17 3.60822483003e-16 -2.22044604925e-16" rpy="0.0 -0.0 0.0" />
    <axis xyz="0.0 1.0 0.0" />
    <parent link="L_ANKLE_R_S" />
    <child link="L_ANKLE_P_S" />
    <limit lower="-1.4835298642" upper="0.959931088597" effort="100" velocity="14.18435" />
  </joint>
  <joint name="WAIST_Y" type="revolute">
    <origin xyz="0.0 0.0 0.192" rpy="0.0 -0.0 0.0" />
    <axis xyz="0.0 0.0 1.0" />
    <parent link="PELVIS_S" />
    <child link="WAIST_Y_S" />
    <limit lower="-0.785398163397" upper="0.785398163397" effort="100" velocity="8.90117" />
  </joint>
  <joint name="WAIST_P" type="revolute">
    <origin xyz="0.0 0.0 -1.11022302463e-16" rpy="0.0 -0.0 0.0" />
    <axis xyz="0.0 1.0 0.0" />
    <parent link="WAIST_Y_S" />
    <child link="WAIST_P_S" />
    <limit lower="-0.523598775598" upper="1.0471975512" effort="100" velocity="8.90117" />
  </joint>
  <joint name="WAIST_R" type="revolute">
    <origin xyz="0.0 0.0 -1.11022302463e-16" rpy="0.0 -0.0 0.0" />
    <axis xyz="1.0 0.0 0.0" />
    <parent link="WAIST_P_S" />
    <child link="WAIST_R_S" />
    <limit lower="-0.872664625997" upper="0.872664625997" effort="100" velocity="9.42477" />
  </joint>
  <joint name="NECK_Y" type="revolute">
    <origin xyz="-0.003 0.0 0.453" rpy="0.0 -0.0 0.0" />
    <axis xyz="0.0 0.0 1.0" />
    <parent link="WAIST_R_S" />
    <child link="NECK_Y_S" />
    <limit lower="-1.2217304764" upper="1.2217304764" effort="100" velocity="5.23598" />
  </joint>
  <joint name="NECK_R" type="revolute">
    <origin xyz="8.23993651089e-18 0.0 2.22044604925e-16" rpy="0.0 -0.0 0.0" />
    <axis xyz="1.0 0.0 0.0" />
    <parent link="NECK_Y_S" />
    <child link="NECK_R_S" />
    <limit lower="-0.872664625997" upper="0.872664625997" effort="100" velocity="5.75958" />
  </joint>
  <joint name="NECK_P" type="revolute">
    <origin xyz="8.23993651089e-18 0.0 2.22044604925e-16" rpy="0.0 -0.0 0.0" />
    <axis xyz="0.0 1.0 0.0" />
    <parent link="NECK_R_S" />
    <child link="NECK_P_S" />
    <limit lower="-0.872664625997" upper="1.0471975512" effort="100" velocity="5.75958" />
  </joint>
  <joint name="R_SHOULDER_P" type="revolute">
    <origin xyz="0.0 -0.24 0.33" rpy="0.0 -0.0 0.0" />
    <axis xyz="0.0 1.0 0.0" />
    <parent link="WAIST_R_S" />
    <child link="R_SHOULDER_P_S" />
    <limit lower="-3.14159265359" upper="1.0471975512" effort="100" velocity="8.90117" />
  </joint>
  <joint name="R_SHOULDER_R" type="revolute">
    <origin xyz="0.0 -2.77555756156e-17 -7.77156117238e-16" rpy="0.0 -0.0 0.0" />
    <axis xyz="1.0 0.0 0.0" />
    <parent link="R_SHOULDER_P_S" />
    <child link="R_SHOULDER_R_S" />
    <limit lower="-1.74532925199" upper="0.174532925199" effort="100" velocity="8.90117" />
  </joint>
  <joint name="R_SHOULDER_Y" type="revolute">
    <origin xyz="0.0 -2.77555756156e-17 -7.77156117238e-16" rpy="0.0 -0.0 0.0" />
    <axis xyz="0.0 0.0 1.0" />
    <parent link="R_SHOULDER_R_S" />
    <child link="R_SHOULDER_Y_S" />
    <limit lower="-1.57079632679" upper="1.57079632679" effort="100" velocity="4.18879" />
  </joint>
  <joint name="R_ELBOW_P" type="revolute">
    <origin xyz="0.004 2.77555756156e-17 -0.305" rpy="0.0 -0.0 0.0" />
    <axis xyz="0.0 1.0 0.0" />
    <parent link="R_SHOULDER_Y_S" />
    <child link="R_ELBOW_P_S" />
    <limit lower="-2.53072741539" upper="0.0" effort="100" velocity="9.42477" />
  </joint>
  <joint name="R_ELBOW_Y" type="revolute">
    <origin xyz="-0.004 -4.99600361081e-16 -0.239" rpy="0.0 -0.0 0.0" />
    <axis xyz="0.0 0.0 1.0" />
    <parent link="R_ELBOW_P_S" />
    <child link="R_ELBOW_Y_S" />
    <limit lower="-1.91986217719" upper="1.91986217719" effort="100" velocity="3.66519" />
  </joint>
  <joint name="R_WRIST_R" type="revolute">
    <origin xyz="0.0 2.77555756156e-16 -1.80411241502e-16" rpy="0.0 -0.0 0.0" />
    <axis xyz="1.0 0.0 0.0" />
    <parent link="R_ELBOW_Y_S" />
    <child link="R_WRIST_R_S" />
    <limit lower="-1.91986217719" upper="1.91986217719" effort="100" velocity="5.75958" />
  </joint>
  <joint name="R_WRIST_Y" type="revolute">
    <origin xyz="0.0 2.77555756156e-16 -1.80411241502e-16" rpy="0.0 -0.0 0.0" />
    <axis xyz="0.0 0.0 1.0" />
    <parent link="R_WRIST_R_S" />
    <child link="R_WRIST_Y_S" />
    <limit lower="-2.61799387799" upper="2.61799387799" effort="100" velocity="3.66519" />
  </joint>
  <joint name="R_UTHUMB" type="revolute">
    <origin xyz="0.0 0.023 -0.084" rpy="0.0 -0.0 0.0" />
    <axis xyz="1.0 0.0 0.0" />
    <parent link="R_WRIST_Y_S" />
    <child link="R_UTHUMB_S" />
    <limit lower="-0.785398163397" upper="0.0" effort="100" velocity="6.80678" />
  </joint>
  <joint name="R_LTHUMB" type="revolute">
    <origin xyz="0.0 -2.47024622979e-15 -0.045" rpy="0.0 -0.0 0.0" />
    <axis xyz="1.0 0.0 0.0" />
    <parent link="R_UTHUMB_S" />
    <child link="R_LTHUMB_S" />
    <limit lower="-1.57079632679" upper="0.0" effort="100" velocity="13.6135" />
  </joint>
  <joint name="R_UINDEX" type="revolute">
    <origin xyz="0.025 -0.006 -0.102" rpy="0.0 -0.0 0.0" />
    <axis xyz="1.0 0.0 0.0" />
    <parent link="R_WRIST_Y_S" />
    <child link="R_UINDEX_S" />
    <limit lower="0.0" upper="1.57079632679" effort="100" velocity="9.42477" />
  </joint>
  <joint name="R_LINDEX" type="revolute">
    <origin xyz="3.46944695195e-17 -2.77555756156e-17 -0.045" rpy="0.0 -0.0 0.0" />
    <axis xyz="1.0 0.0 0.0" />
    <parent link="R_UINDEX_S" />
    <child link="R_LINDEX_S" />
    <limit lower="0.0" upper="1.57079632679" effort="100" velocity="5.75958" />
  </joint>
  <joint name="R_ULITTLE" type="revolute">
    <origin xyz="-0.025 -0.006 -0.102" rpy="0.0 -0.0 0.0" />
    <axis xyz="1.0 0.0 0.0" />
    <parent link="R_WRIST_Y_S" />
    <child link="R_ULITTLE_S" />
    <limit lower="0.0" upper="1.57079632679" effort="100" velocity="9.42477" />
  </joint>
  <joint name="R_LLITTLE" type="revolute">
    <origin xyz="-3.46944695195e-17 -1.38777878078e-16 -0.045" rpy="0.0 -0.0 0.0" />
    <axis xyz="1.0 0.0 0.0" />
    <parent link="R_ULITTLE_S" />
    <child link="R_LLITTLE_S" />
    <limit lower="0.0" upper="1.57079632679" effort="100" velocity="5.75958" />
  </joint>
  <joint name="L_SHOULDER_P" type="revolute">
    <origin xyz="0.0 0.24 0.33" rpy="0.0 -0.0 0.0" />
    <axis xyz="0.0 1.0 0.0" />
    <parent link="WAIST_R_S" />
    <child link="L_SHOULDER_P_S" />
    <limit lower="-3.14159265359" upper="1.0471975512" effort="100" velocity="8.90117" />
  </joint>
  <joint name="L_SHOULDER_R" type="revolute">
    <origin xyz="0.0 2.77555756156e-17 -5.55111512313e-16" rpy="0.0 -0.0 0.0" />
    <axis xyz="1.0 0.0 0.0" />
    <parent link="L_SHOULDER_P_S" />
    <child link="L_SHOULDER_R_S" />
    <limit lower="-0.174532925199" upper="1.74532925199" effort="100" velocity="8.90117" />
  </joint>
  <joint name="L_SHOULDER_Y" type="revolute">
    <origin xyz="0.0 2.77555756156e-17 -5.55111512313e-16" rpy="0.0 -0.0 0.0" />
    <axis xyz="0.0 0.0 1.0" />
    <parent link="L_SHOULDER_R_S" />
    <child link="L_SHOULDER_Y_S" />
    <limit lower="-1.57079632679" upper="1.57079632679" effort="100" velocity="4.18879" />
  </joint>
  <joint name="L_ELBOW_P" type="revolute">
    <origin xyz="0.004 -2.77555756156e-17 -0.305" rpy="0.0 -0.0 0.0" />
    <axis xyz="0.0 1.0 0.0" />
    <parent link="L_SHOULDER_Y_S" />
    <child link="L_ELBOW_P_S" />
    <limit lower="-2.53072741539" upper="0.0" effort="100" velocity="9.42477" />
  </joint>
  <joint name="L_ELBOW_Y" type="revolute">
    <origin xyz="-0.004 3.88578058619e-16 -0.239" rpy="0.0 -0.0 0.0" />
    <axis xyz="0.0 0.0 1.0" />
    <parent link="L_ELBOW_P_S" />
    <child link="L_ELBOW_Y_S" />
    <limit lower="-1.91986217719" upper="1.91986217719" effort="100" velocity="3.66519" />
  </joint>
  <joint name="L_WRIST_R" type="revolute">
    <origin xyz="0.0 -2.77555756156e-16 -1.80411241502e-16" rpy="0.0 -0.0 0.0" />
    <axis xyz="1.0 0.0 0.0" />
    <parent link="L_ELBOW_Y_S" />
    <child link="L_WRIST_R_S" />
    <limit lower="-1.91986217719" upper="1.91986217719" effort="100" velocity="5.75958" />
  </joint>
  <joint name="L_WRIST_Y" type="revolute">
    <origin xyz="0.0 -2.77555756156e-16 -1.80411241502e-16" rpy="0.0 -0.0 0.0" />
    <axis xyz="0.0 0.0 1.0" />
    <parent link="L_WRIST_R_S" />
    <child link="L_WRIST_Y_S" />
    <limit lower="-2.61799387799" upper="2.61799387799" effort="100" velocity="3.66519" />
  </joint>
  <joint name="L_UTHUMB" type="revolute">
    <origin xyz="0.0 -0.023 -0.084" rpy="0.0 -0.0 0.0" />
    <axis xyz="1.0 0.0 0.0" />
    <parent link="L_WRIST_Y_S" />
    <child link="L_UTHUMB_S" />
    <limit lower="-0.0" upper="0.785398163397" effort="100" velocity="6.80678" />
  </joint>
  <joint name="L_LTHUMB" type="revolute">
    <origin xyz="0.0 2.16493489802e-15 -0.045" rpy="0.0 -0.0 0.0" />
    <axis xyz="1.0 0.0 0.0" />
    <parent link="L_UTHUMB_S" />
    <child link="L_LTHUMB_S" />
    <limit lower="-0.0" upper="1.57079632679" effort="100" velocity="13.6135" />
  </joint>
  <joint name="L_UINDEX" type="revolute">
    <origin xyz="0.025 0.006 -0.102" rpy="0.0 -0.0 0.0" />
    <axis xyz="1.0 0.0 0.0" />
    <parent link="L_WRIST_Y_S" />
    <child link="L_UINDEX_S" />
    <limit lower="-1.57079632679" upper="0.0" effort="100" velocity="9.42477" />
  </joint>
  <joint name="L_LINDEX" type="revolute">
    <origin xyz="3.46944695195e-17 1.38777878078e-16 -0.045" rpy="0.0 -0.0 0.0" />
    <axis xyz="1.0 0.0 0.0" />
    <parent link="L_UINDEX_S" />
    <child link="L_LINDEX_S" />
    <limit lower="-1.57079632679" upper="0.0" effort="100" velocity="5.75958" />
  </joint>
  <joint name="L_ULITTLE" type="revolute">
    <origin xyz="-0.025 0.006 -0.102" rpy="0.0 -0.0 0.0" />
    <axis xyz="1.0 0.0 0.0" />
    <parent link="L_WRIST_Y_S" />
    <child link="L_ULITTLE_S" />
    <limit lower="-1.57079632679" upper="0.0" effort="100" velocity="9.42477" />
  </joint>
  <joint name="L_LLITTLE" type="revolute">
    <origin xyz="-3.46944695195e-17 2.77555756156e-17 -0.045" rpy="0.0 -0.0 0.0" />
    <axis xyz="1.0 0.0 0.0" />
    <parent link="L_ULITTLE_S" />
    <child link="L_LLITTLE_S" />
    <limit lower="-1.57079632679" upper="0.0" effort="100" velocity="5.75958" />
  </joint>
  <link name="gsensor">
  </link>
  <joint name="gsensor_JOINT" type="fixed">
    <origin xyz="0.0 0.0 0.0" rpy="0.0 -0.0 0.0" />
    <parent link="PELVIS_S" />
    <child link="gsensor" />
  </joint>
  <sensor name="gsensor_SENSOR" update_rate="20">
    <origin xyz="0.0 0.0 0.0" rpy="0.0 -0.0 0.0" />
    <parent link="PELVIS_S" />
  </sensor>
  <link name="gyrometer">
  </link>
  <joint name="gyrometer_JOINT" type="fixed">
    <origin xyz="0.0 0.0 0.0" rpy="0.0 -0.0 0.0" />
    <parent link="PELVIS_S" />
    <child link="gyrometer" />
  </joint>
  <sensor name="gyrometer_SENSOR" update_rate="20">
    <origin xyz="0.0 0.0 0.0" rpy="0.0 -0.0 0.0" />
    <parent link="PELVIS_S" />
  </sensor>
  <link name="rfsensor">
  </link>
  <joint name="rfsensor_JOINT" type="fixed">
    <origin xyz="0.0 0.0 0.0" rpy="0.0 -0.0 0.0" />
    <parent link="R_ANKLE_P_S" />
    <child link="rfsensor" />
  </joint>
  <sensor name="rfsensor_SENSOR" update_rate="20">
    <origin xyz="0.0 0.0 0.0" rpy="0.0 -0.0 0.0" />
    <parent link="R_ANKLE_P_S" />
  </sensor>
  <link name="lfsensor">
  </link>
  <joint name="lfsensor_JOINT" type="fixed">
    <origin xyz="0.0 0.0 0.0" rpy="0.0 -0.0 0.0" />
    <parent link="L_ANKLE_P_S" />
    <child link="lfsensor" />
  </joint>
  <sensor name="lfsensor_SENSOR" update_rate="20">
    <origin xyz="0.0 0.0 0.0" rpy="0.0 -0.0 0.0" />
    <parent link="L_ANKLE_P_S" />
  </sensor>
  <link name="rcamera">
  </link>
  <joint name="rcamera_JOINT" type="fixed">
    <origin xyz="0.1 -0.03 0.09" rpy="-2.09440867144 1.64830267294e-05 -1.57082487668" />
    <parent link="NECK_P_S" />
    <child link="rcamera" />
  </joint>
  <sensor name="rcamera_SENSOR" update_rate="30.0">
    <origin xyz="0.1 -0.03 0.09" rpy="-2.09440867144 1.64830267294e-05 -1.57082487668" />
    <parent link="NECK_P_S" />
    <camera>
      <image width="640.0" height="480.0" hfov="1.0" format="RGB8" near="0.0500000007451" far="10.0"/>
    </camera>
  </sensor>
  <link name="lcamera">
  </link>
  <joint name="lcamera_JOINT" type="fixed">
    <origin xyz="0.1 0.03 0.09" rpy="-2.09440867144 1.64830267294e-05 -1.57082487668" />
    <parent link="NECK_P_S" />
    <child link="lcamera" />
  </joint>
  <sensor name="lcamera_SENSOR" update_rate="30.0">
    <origin xyz="0.1 0.03 0.09" rpy="-2.09440867144 1.64830267294e-05 -1.57082487668" />
    <parent link="NECK_P_S" />
    <camera>
      <image width="640.0" height="480.0" hfov="1.0" format="RGB8" near="0.0500000007451" far="10.0"/>
    </camera>
  </sensor>
  <link name="dcamera">
  </link>
  <joint name="dcamera_JOINT" type="fixed">
    <origin xyz="0.1 0.0 0.09" rpy="-2.09440867144 1.64830267294e-05 -1.57082487668" />
    <parent link="NECK_P_S" />
    <child link="dcamera" />
  </joint>
  <sensor name="dcamera_SENSOR" update_rate="30.0">
    <origin xyz="0.1 0.0 0.09" rpy="-2.09440867144 1.64830267294e-05 -1.57082487668" />
    <parent link="NECK_P_S" />
    <camera>
      <image width="640.0" height="480.0" hfov="1.0" format="RGB8" near="0.0500000007451" far="10.0"/>
    </camera>
  </sensor>
  <link name="ranger">
  </link>
  <joint name="ranger_JOINT" type="fixed">
    <origin xyz="0.1 0.0 0.0" rpy="1.90331089466e-05 0.523612344569 -1.9033108947e-05" />
    <parent link="NECK_P_S" />
    <child link="ranger" />
  </joint>
  <sensor name="ranger_SENSOR" update_rate="100.0">
    <origin xyz="0.1 0.0 0.0" rpy="1.90331089466e-05 0.523612344569 -1.9033108947e-05" />
    <parent link="NECK_P_S" />
    <ray>
      <horizontal samples="100" resolution="1" min_angle="" max_angle=""/>
      <vertical samples="1" resolution="1" min_angle="0" max_angle="0"/>
    </ray>
  </sensor>
  <link name="rhsensor">
  </link>
  <joint name="rhsensor_JOINT" type="fixed">
    <origin xyz="0.0 0.0 0.0" rpy="0.0 -0.0 0.0" />
    <parent link="R_WRIST_Y_S" />
    <child link="rhsensor" />
  </joint>
  <sensor name="rhsensor_SENSOR" update_rate="20">
    <origin xyz="0.0 0.0 0.0" rpy="0.0 -0.0 0.0" />
    <parent link="R_WRIST_Y_S" />
  </sensor>
  <link name="lhsensor">
  </link>
  <joint name="lhsensor_JOINT" type="fixed">
    <origin xyz="0.0 0.0 0.0" rpy="0.0 -0.0 0.0" />
    <parent link="L_WRIST_Y_S" />
    <child link="lhsensor" />
  </joint>
  <sensor name="lhsensor_SENSOR" update_rate="20">
    <origin xyz="0.0 0.0 0.0" rpy="0.0 -0.0 0.0" />
    <parent link="L_WRIST_Y_S" />
  </sensor>
</robot>
